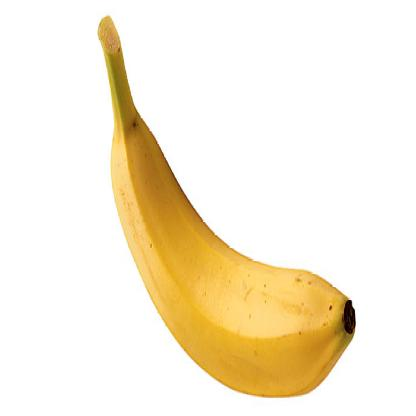banana: (100, 107, 359, 414)
